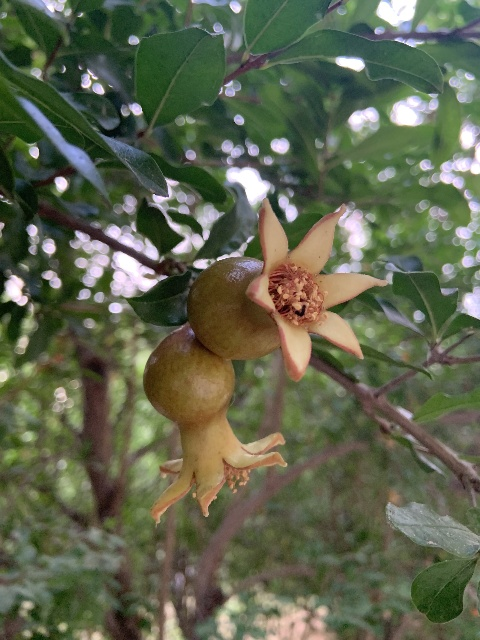early-fruit: (186, 194, 386, 383), (143, 324, 287, 523)
